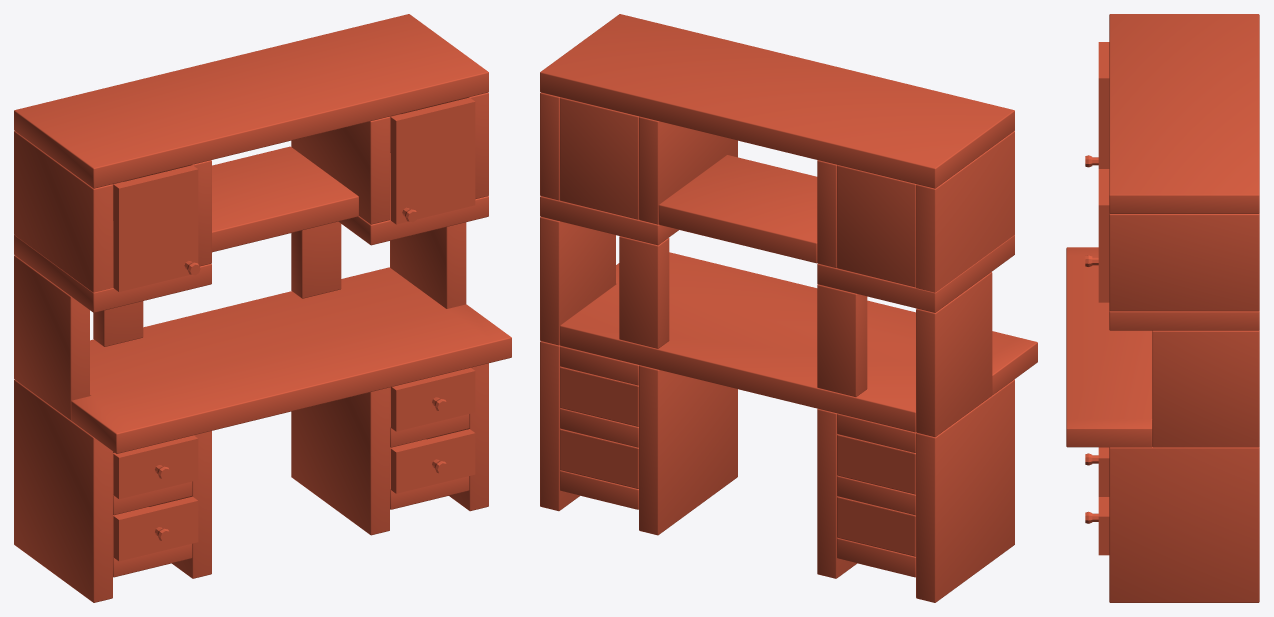
The model's file is Desk.fbx.
3 views of the same model, side by side, from view 1: azimuth 30°, elevation 25°; view 2: azimuth 150°, elevation 25°; view 3: azimuth 270°, elevation 25° (orthographic). The views are drawn at different scales.
Visible parts, largest first — view 1: Desk; view 2: Desk; view 3: Desk.
Boxes of the visible parts, x1,y1,x2,y2 form: Desk: [14, 14, 511, 602]; Desk: [540, 14, 1037, 602]; Desk: [1066, 14, 1259, 602].
Bounding box in the file's own units: 2 × 2.1 × 0.9.
